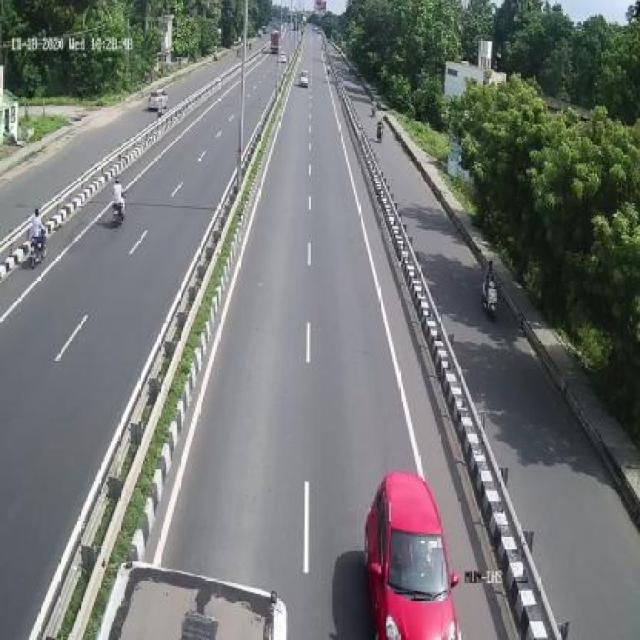car: (367, 471, 458, 640), (148, 88, 167, 107), (294, 66, 312, 86), (275, 54, 288, 72)
